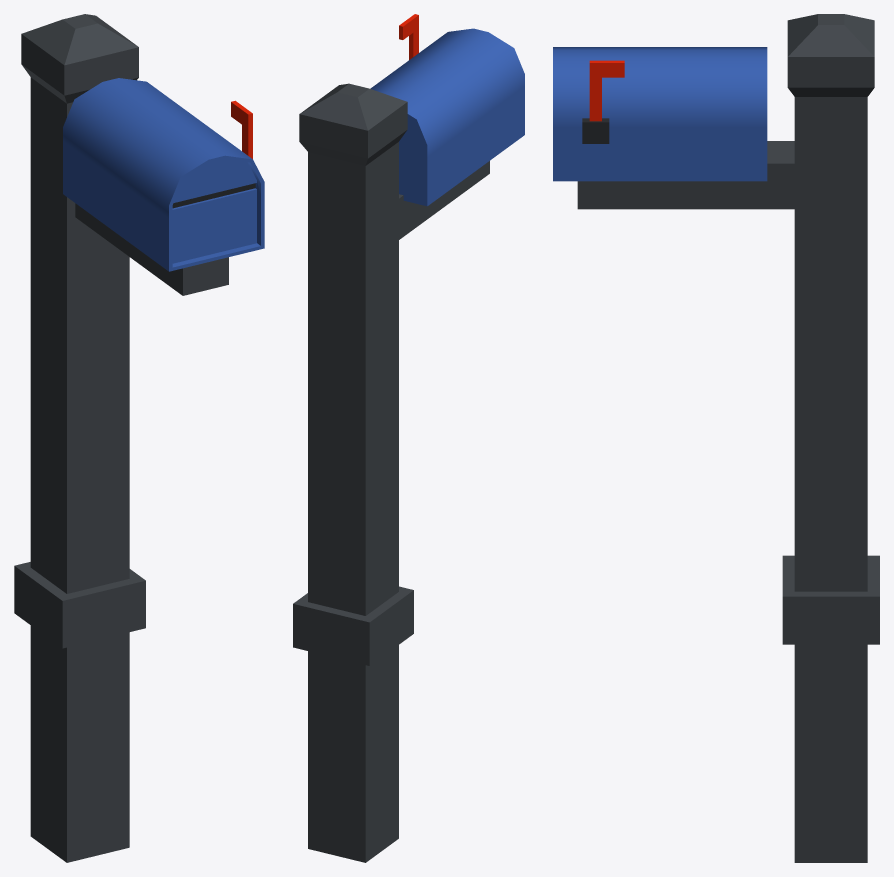
File: Post box_1.fbx
3 views of the same model, side by side, from view 1: azimuth 30°, elevation 25°; view 2: azimuth 150°, elevation 25°; view 3: azimuth 270°, elevation 25° (orthographic). The views are drawn at different scales.
Visible parts, largest first — view 1: Post box_1; view 2: Post box_1; view 3: Post box_1.
Boxes of the visible parts, x1,y1,x2,y2 form: Post box_1: (14,14,264,862); Post box_1: (293,14,524,862); Post box_1: (553,14,879,862).
Bounding box in the file's own units: 19.47 × 147 × 52.71.
